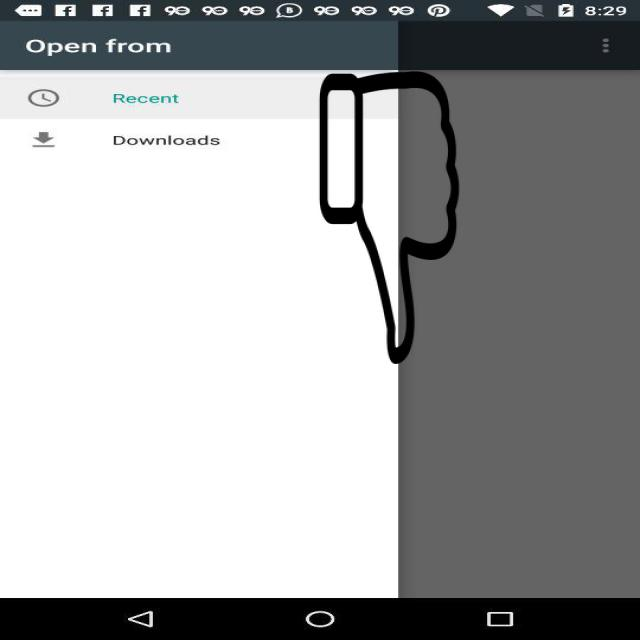obstruction: (318, 71, 461, 364)
